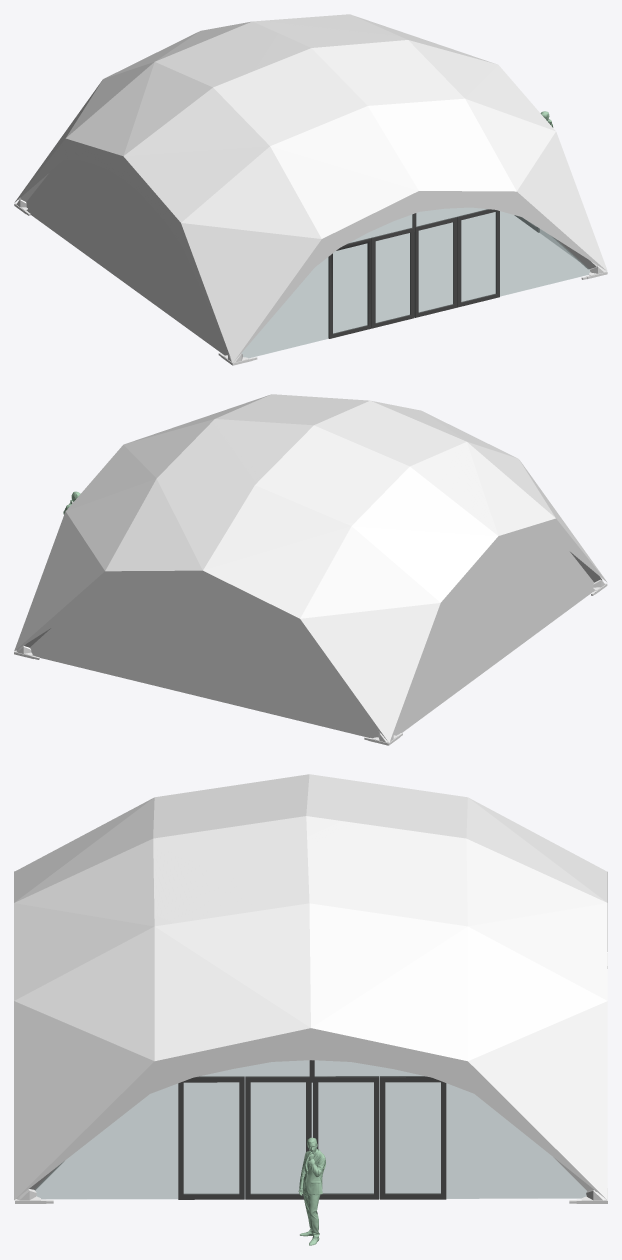
The model's file is eco100.glb.
The picture shows the model from 3 angles, top to bottom: view 1: azimuth 30°, elevation 25°; view 2: azimuth 150°, elevation 25°; view 3: azimuth 270°, elevation 25°; orthographic projection. The views are drawn at different scales.
Visible parts, largest first — view 1: tent, windows-2, sidewall-1, logo-area-3, frame-2, logo-area-2, bases; view 2: tent, sidewall-2, sidewall-1, logo-area-4, logo-area-1, bases; view 3: tent, windows-1, logo-area-2, logo-area-1, frame-1, human, bases.
Boxes of the visible parts, bbox=[...] form: tent: bbox=[15, 14, 607, 362]; windows-2: bbox=[242, 207, 590, 358]; sidewall-1: bbox=[26, 160, 227, 355]; logo-area-3: bbox=[181, 223, 321, 362]; frame-2: bbox=[328, 209, 499, 338]; logo-area-2: bbox=[517, 132, 607, 271]; bases: bbox=[14, 199, 607, 365]; tent: bbox=[15, 394, 607, 740]; sidewall-2: bbox=[30, 587, 379, 738]; sidewall-1: bbox=[393, 541, 594, 735]; logo-area-4: bbox=[300, 603, 440, 742]; logo-area-1: bbox=[14, 511, 104, 651]; bases: bbox=[14, 579, 607, 745]; tent: bbox=[14, 774, 607, 1199]; windows-1: bbox=[34, 1060, 586, 1199]; logo-area-2: bbox=[14, 1001, 153, 1199]; logo-area-1: bbox=[468, 1001, 607, 1199]; frame-1: bbox=[178, 1060, 446, 1199]; human: bbox=[298, 1137, 325, 1245]; bases: bbox=[15, 953, 607, 1203].
Bounding box in the file's own units: 117 × 49.92 × 101.
